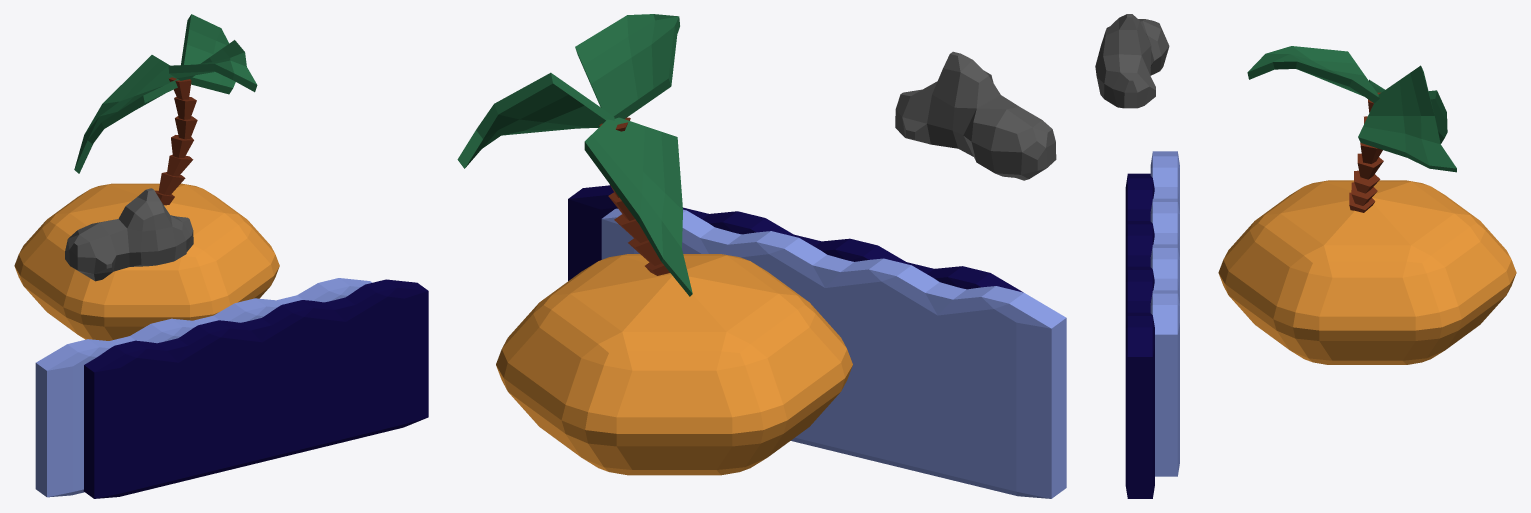
Rendered from Water_and_Island_and_cloud.glb.
3 renders of one model, left to right at view 1: azimuth 30°, elevation 25°; view 2: azimuth 150°, elevation 25°; view 3: azimuth 270°, elevation 25°, orthographic. The views are drawn at different scales.
Parts seen in each view (by area): view 1: Dark_sea, Island, Light_Sea, Storm_cloud, Leaf_03, Tree_base, Leaf_01, Leaf_02; view 2: Island, Light_Sea, Storm_cloud, Leaf_03, Leaf_02, Dark_sea, Leaf_01, Tree_base; view 3: Island, Dark_sea, Light_Sea, Leaf_01, Storm_cloud, Leaf_02, Tree_base, Leaf_03.
Boxes of the visible parts, box(x1,y1,x2,y2) form: Dark_sea: box(83, 279, 428, 498); Island: box(14, 183, 279, 340); Light_Sea: box(35, 278, 371, 497); Storm_cloud: box(65, 188, 193, 281); Leaf_03: box(74, 55, 179, 173); Tree_base: box(155, 77, 197, 205); Leaf_01: box(181, 14, 235, 94); Leaf_02: box(168, 40, 257, 92); Island: box(496, 254, 852, 475); Light_Sea: box(601, 208, 1066, 498); Storm_cloud: box(895, 51, 1056, 180); Leaf_03: box(584, 117, 692, 296); Leaf_02: box(575, 14, 679, 118); Dark_sea: box(568, 185, 1023, 292); Leaf_01: box(457, 72, 614, 168); Tree_base: box(599, 117, 669, 275); Island: box(1218, 180, 1516, 364); Dark_sea: box(1125, 173, 1154, 498); Light_Sea: box(1150, 151, 1179, 476); Leaf_01: box(1358, 65, 1456, 172); Storm_cloud: box(1095, 14, 1169, 108); Leaf_02: box(1247, 46, 1379, 103); Tree_base: box(1349, 92, 1383, 212); Leaf_03: box(1369, 79, 1447, 143).
Size of the model in its own units: 16 by 14.06 by 14.02.
